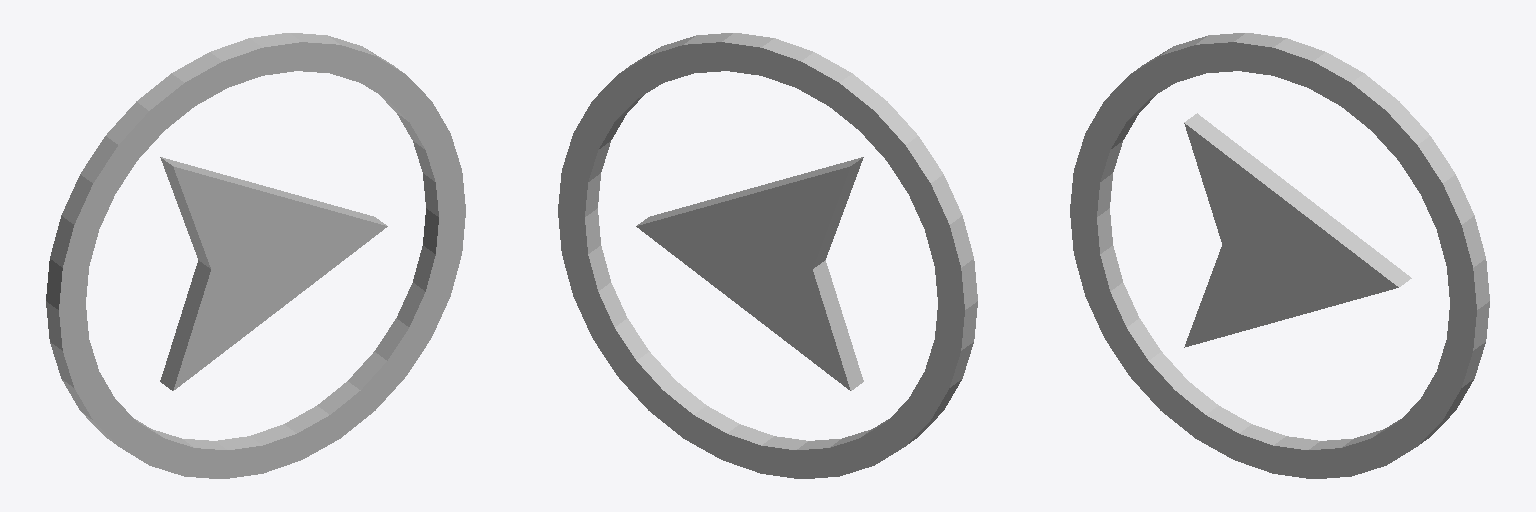
File: Arrow_66.obj
3 renders of one model, left to right at view 1: azimuth 30°, elevation 25°; view 2: azimuth 150°, elevation 25°; view 3: azimuth 330°, elevation 25°, orthographic.
Visible parts, largest first — view 1: Arrow_66; view 2: Arrow_66; view 3: Arrow_66.
Part boxes in pixels (left/top/right/bottom): Arrow_66: left=46, top=33, right=465, bottom=478; Arrow_66: left=558, top=33, right=977, bottom=478; Arrow_66: left=1070, top=33, right=1489, bottom=478.
Size of the model in its own units: 3.79 by 3.79 by 0.2101.